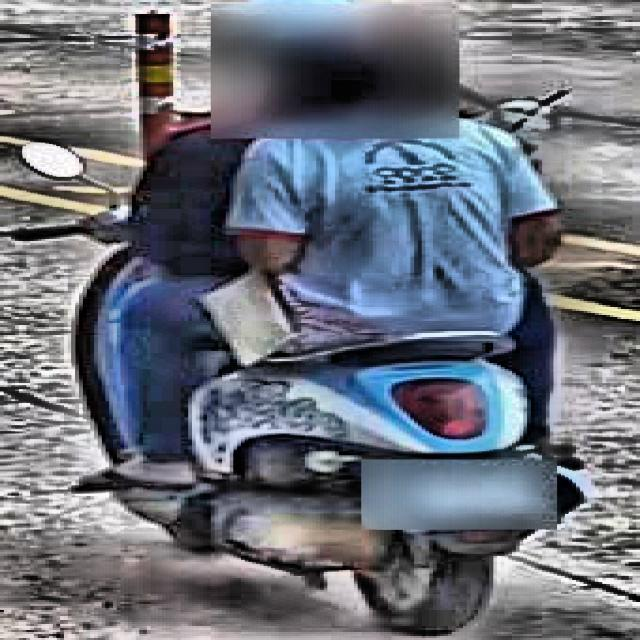motorcycle: (7, 130, 640, 639)
